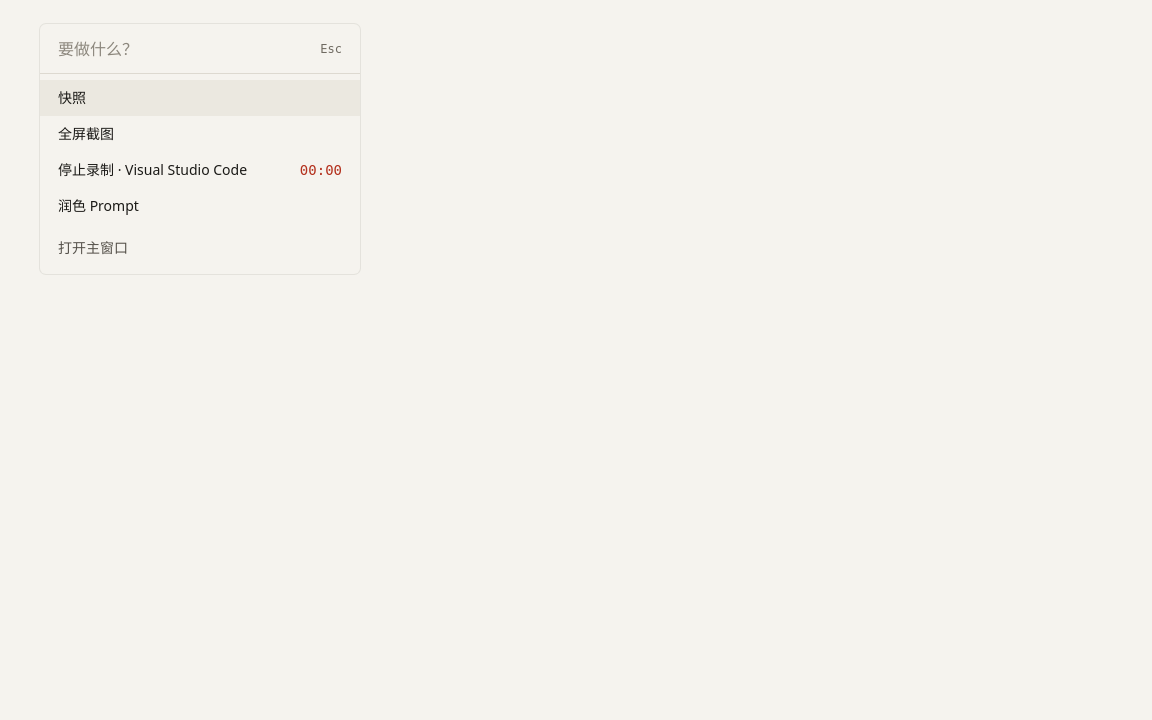
Test: 输入框：录制 › 正在录时那一行变成停止，点了直接停，不再列窗口
Click the option "停止录制 · Visual Studio Code 00:00".
click(200, 170)  # box [40,152,360,188]
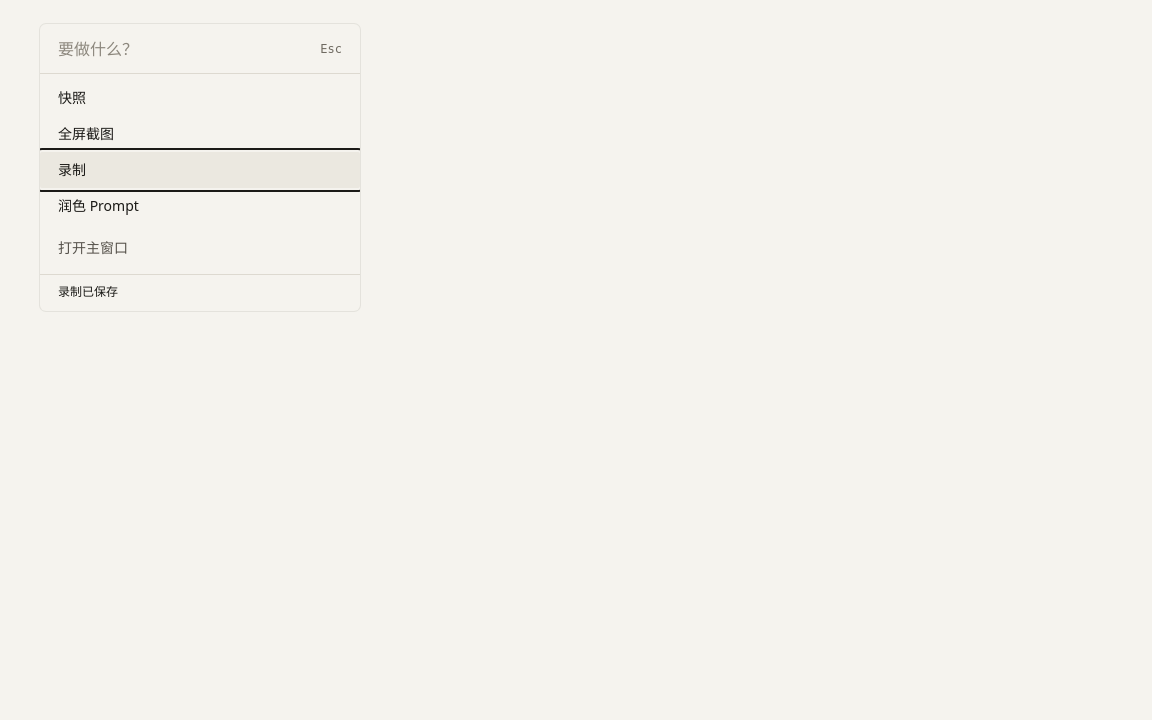
Check: the text "录制已保存" is shown, box [40,274,360,311]
